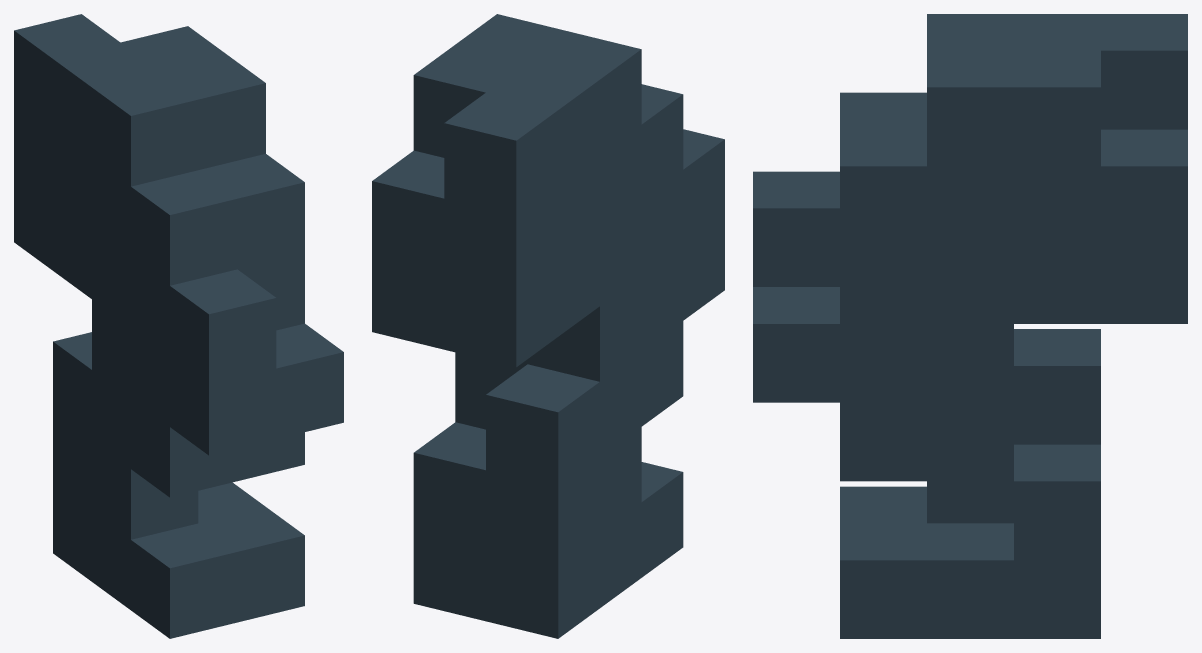
File: Fish guy leg 2.obj
The picture shows the model from 3 angles, left to right: view 1: azimuth 30°, elevation 25°; view 2: azimuth 150°, elevation 25°; view 3: azimuth 270°, elevation 25°; orthographic projection. The views are drawn at different scales.
Bounding box in the file's own units: 2 × 7 × 5.
Materials: 1 (1 with a texture image).
